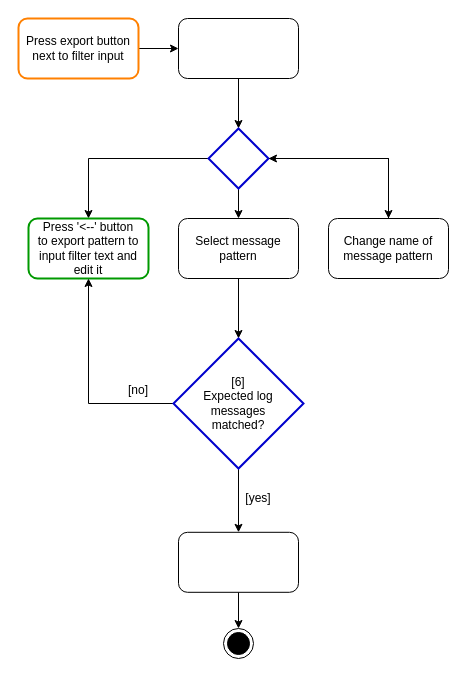
Some shapes in this 466 by 676 pixel diagram are drawn without their labels. The centre of each missing label's shape, as x and y in pixels:
"choice" belongs at (238,158).
"Filter pattern gets moved into a log message pattern" belongs at (238,48).
"Press 'Export message patterns' to export it" belongs at (238,561).
